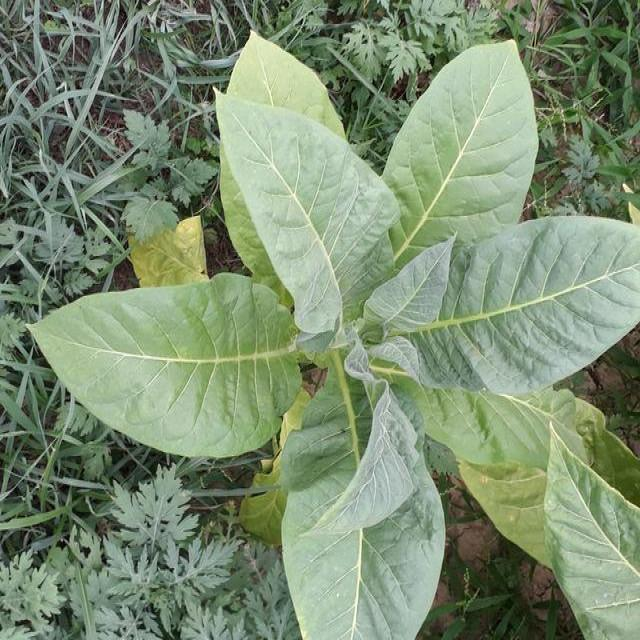crop: (30, 31, 640, 640)
